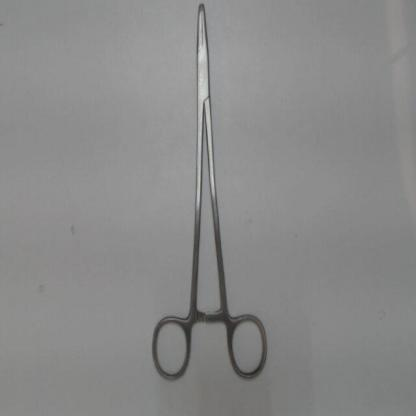8 Mayo Needle Holder: (143, 2, 273, 387)
